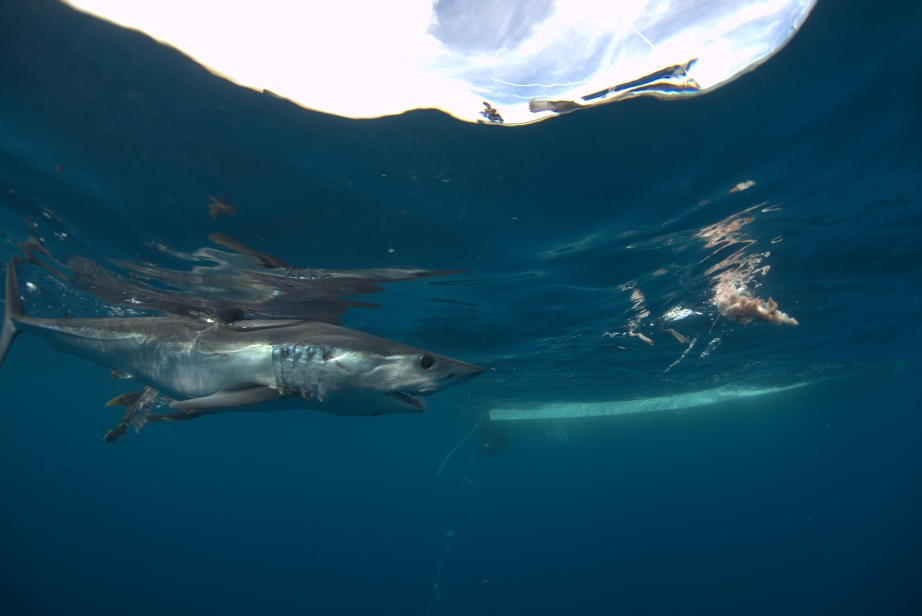Mako: (1, 250, 489, 439)
